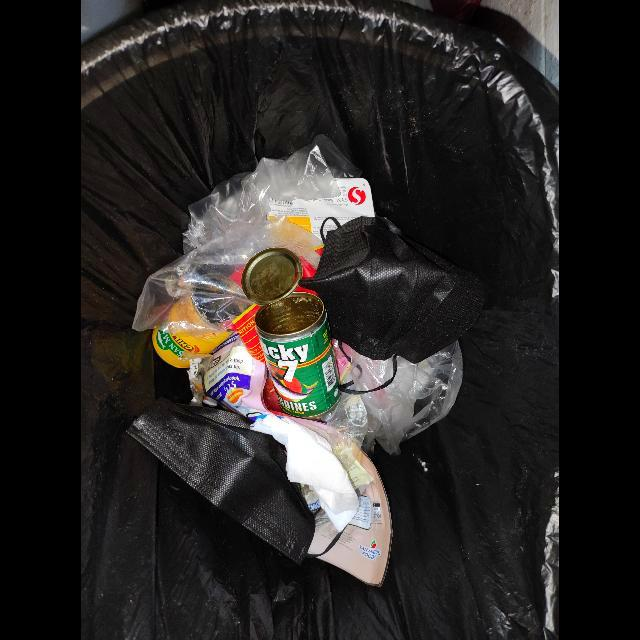aluminum: (242, 248, 342, 419)
paper: (249, 414, 372, 533)
plastic_bag: (132, 144, 342, 333)
